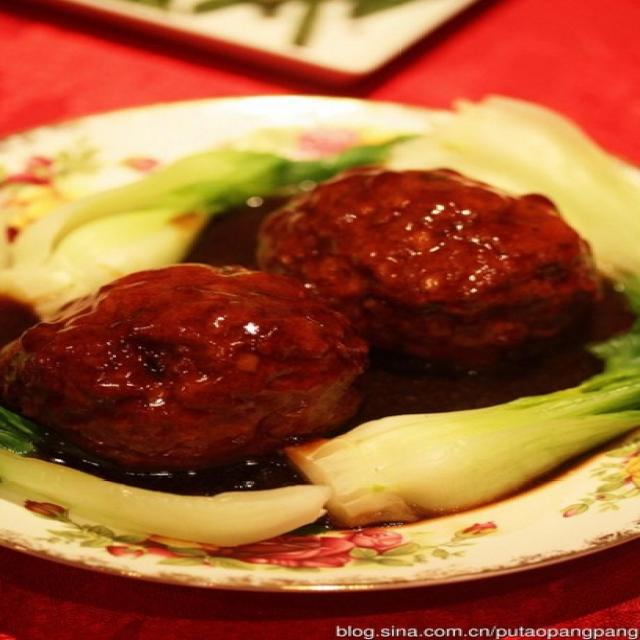Meatball: (243, 157, 613, 379), (0, 258, 369, 468)
